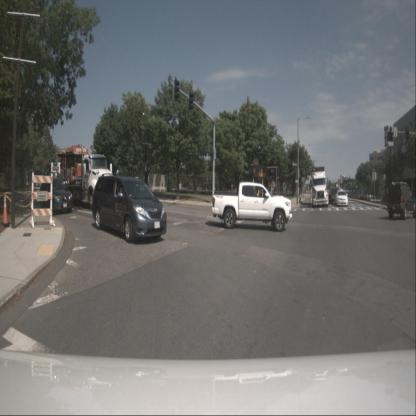movable_object-trafficcone: (1, 194, 10, 228)
vehicle-car: (92, 175, 167, 241), (39, 176, 73, 214), (388, 182, 414, 219), (50, 163, 61, 188), (336, 190, 348, 207), (329, 186, 340, 204), (366, 192, 376, 202), (362, 192, 369, 200)
vehicle-truck: (211, 182, 292, 231), (82, 153, 115, 212), (312, 170, 328, 208)
